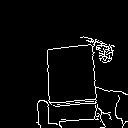cube: (41, 38, 100, 118)
